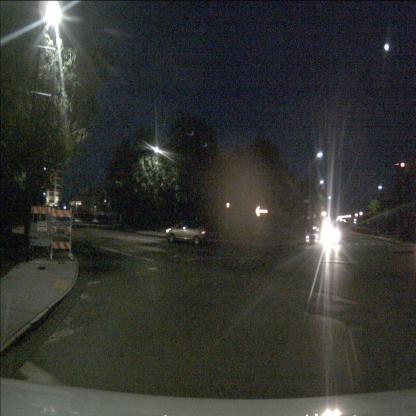vehicle-car: (165, 220, 207, 245), (306, 229, 321, 244)
